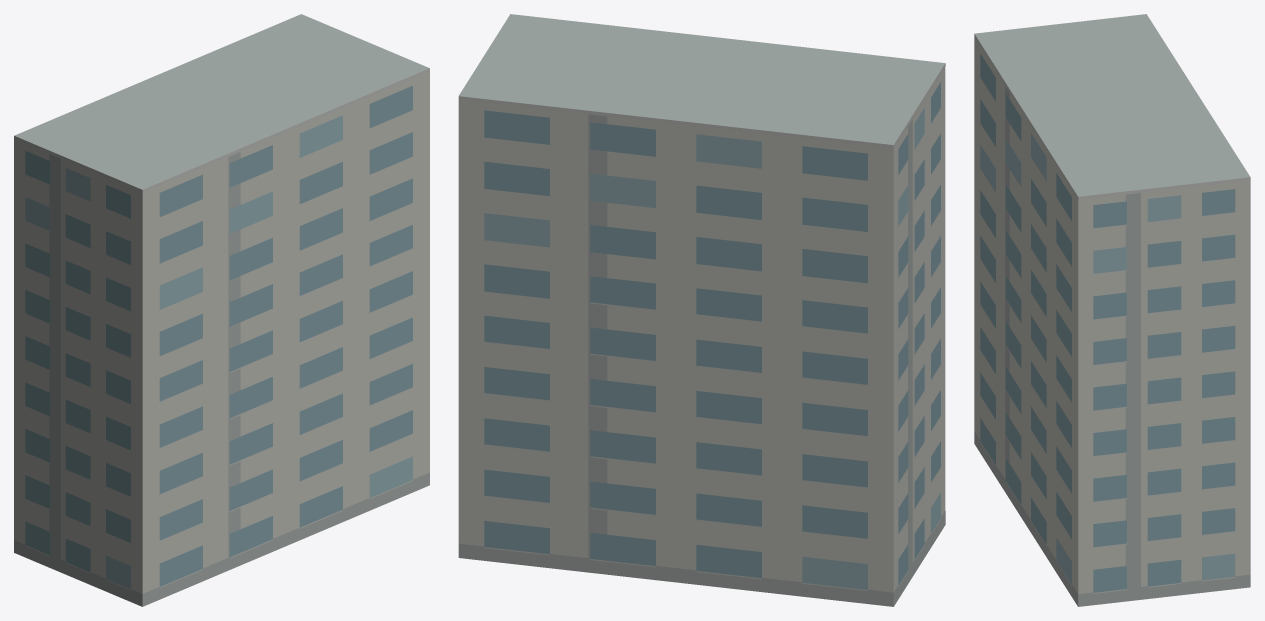
The model's file is residential-70bd6f2c-d31c-45ad-991f-225104cc9305.glb.
The picture shows the model from 3 angles, left to right: view 1: azimuth 30°, elevation 25°; view 2: azimuth 150°, elevation 25°; view 3: azimuth 270°, elevation 25°; orthographic projection. The views are drawn at different scales.
Visible parts, largest first — view 1: residential-70bd6f2c-d31c-45ad-991f-225104cc9305.tmp; view 2: residential-70bd6f2c-d31c-45ad-991f-225104cc9305.tmp; view 3: residential-70bd6f2c-d31c-45ad-991f-225104cc9305.tmp.
Boxes of the visible parts, x1=… form: residential-70bd6f2c-d31c-45ad-991f-225104cc9305.tmp: x1=14, y1=14, x2=429, y2=606; residential-70bd6f2c-d31c-45ad-991f-225104cc9305.tmp: x1=458, y1=14, x2=945, y2=606; residential-70bd6f2c-d31c-45ad-991f-225104cc9305.tmp: x1=974, y1=14, x2=1250, y2=606.
Size of the model in its own units: 29.64 by 31 by 18.94.
